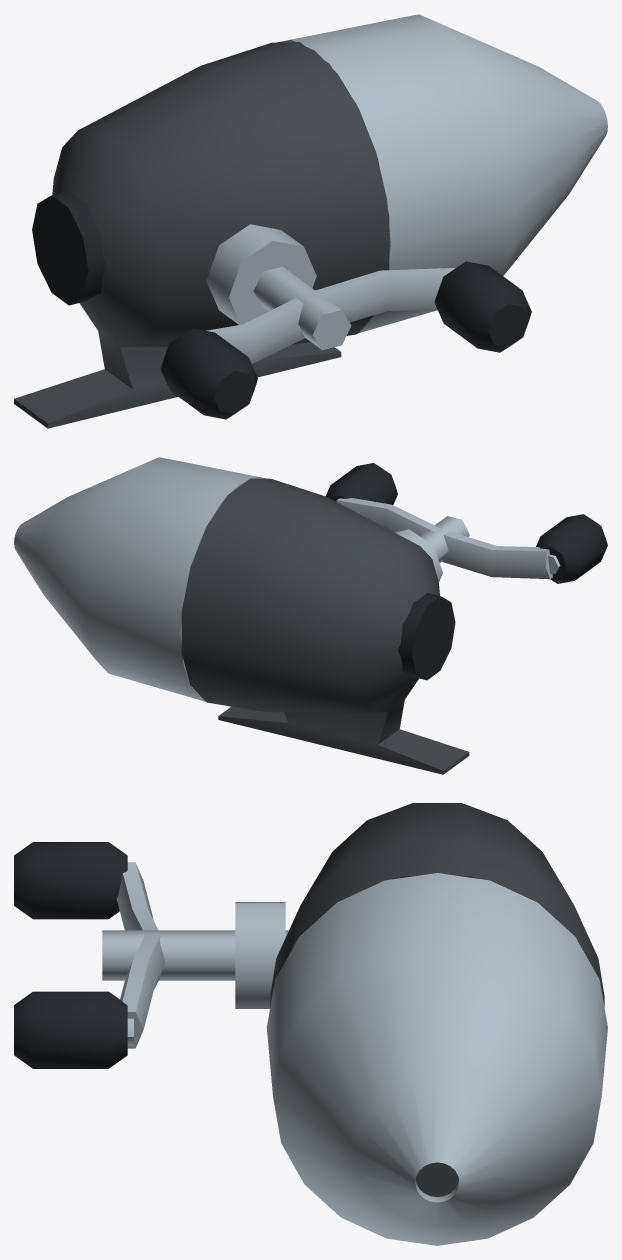
Rendered from reel_04_spincast.glb.
The picture shows the model from 3 angles, top to bottom: view 1: azimuth 30°, elevation 25°; view 2: azimuth 150°, elevation 25°; view 3: azimuth 270°, elevation 25°; orthographic projection. The views are drawn at different scales.
Parts seen in each view (by area): view 1: 04_spincast__Continuous_body_and_foot, 04_spincast__Nose_cone_with_line_aperture, 04_spincast__Crank_casting, 04_spincast__Thumb_button_cap, 04_spincast__Grip_0, 04_spincast__Grip_1, 04_spincast__Crank_bearing_boss, 04_spincast__Crank_drive_shaft; view 2: 04_spincast__Continuous_body_and_foot, 04_spincast__Nose_cone_with_line_aperture, 04_spincast__Crank_casting, 04_spincast__Thumb_button_cap, 04_spincast__Grip_0, 04_spincast__Grip_1, 04_spincast__Crank_drive_shaft, 04_spincast__Crank_bearing_boss; view 3: 04_spincast__Nose_cone_with_line_aperture, 04_spincast__Continuous_body_and_foot, 04_spincast__Grip_1, 04_spincast__Grip_0, 04_spincast__Crank_drive_shaft, 04_spincast__Crank_bearing_boss, 04_spincast__Crank_casting, 04_spincast__Internal_pickup_cup.
Part boxes in pixels (left/top/right/bottom): 04_spincast__Continuous_body_and_foot: left=14, top=42, right=389, bottom=428; 04_spincast__Nose_cone_with_line_aperture: left=278, top=14, right=607, bottom=333; 04_spincast__Crank_casting: left=206, top=268, right=455, bottom=363; 04_spincast__Thumb_button_cap: left=32, top=191, right=106, bottom=305; 04_spincast__Grip_0: left=160, top=328, right=257, bottom=419; 04_spincast__Grip_1: left=434, top=261, right=531, bottom=352; 04_spincast__Crank_bearing_boss: left=206, top=224, right=316, bottom=324; 04_spincast__Crank_drive_shaft: left=253, top=266, right=351, bottom=350; 04_spincast__Continuous_body_and_foot: left=181, top=478, right=469, bottom=774; 04_spincast__Nose_cone_with_line_aperture: left=14, top=457, right=266, bottom=701; 04_spincast__Crank_casting: left=336, top=498, right=552, bottom=579; 04_spincast__Thumb_button_cap: left=398, top=592, right=455, bottom=680; 04_spincast__Grip_0: left=536, top=514, right=607, bottom=583; 04_spincast__Grip_1: left=325, top=463, right=397, bottom=504; 04_spincast__Crank_drive_shaft: left=420, top=516, right=469, bottom=562; 04_spincast__Crank_bearing_boss: left=394, top=529, right=442, bottom=582; 04_spincast__Nose_cone_with_line_aperture: left=266, top=873, right=607, bottom=1245; 04_spincast__Continuous_body_and_foot: left=270, top=803, right=604, bottom=1007; 04_spincast__Grip_1: left=14, top=991, right=127, bottom=1068; 04_spincast__Grip_0: left=14, top=842, right=127, bottom=919; 04_spincast__Crank_drive_shaft: left=102, top=930, right=288, bottom=980; 04_spincast__Crank_bearing_boss: left=235, top=902, right=285, bottom=1008; 04_spincast__Crank_casting: left=116, top=862, right=165, bottom=1048; 04_spincast__Internal_pickup_cup: left=415, top=1162, right=458, bottom=1196.
Size of the model in its own units: 0.1195 by 0.058 by 0.094.
